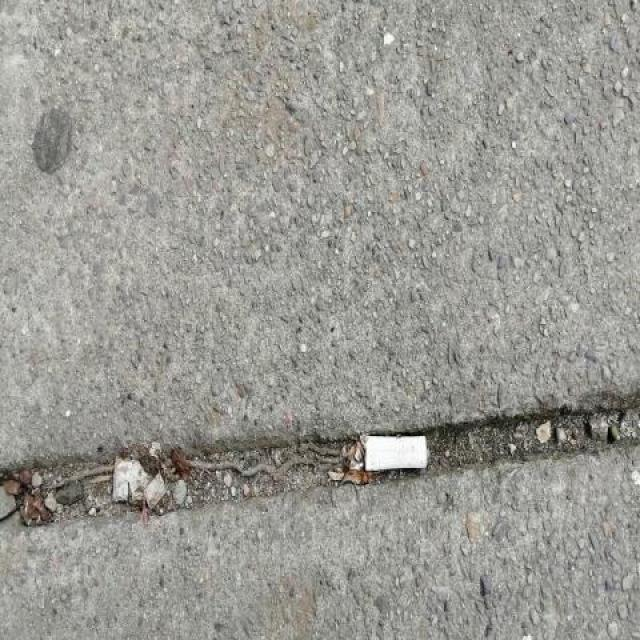non-organic waste: (358, 431, 431, 477)
